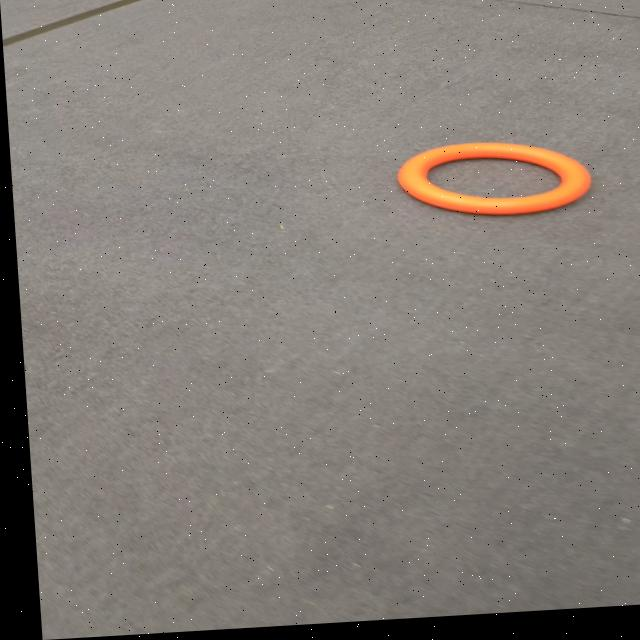note: (394, 134, 592, 220)
